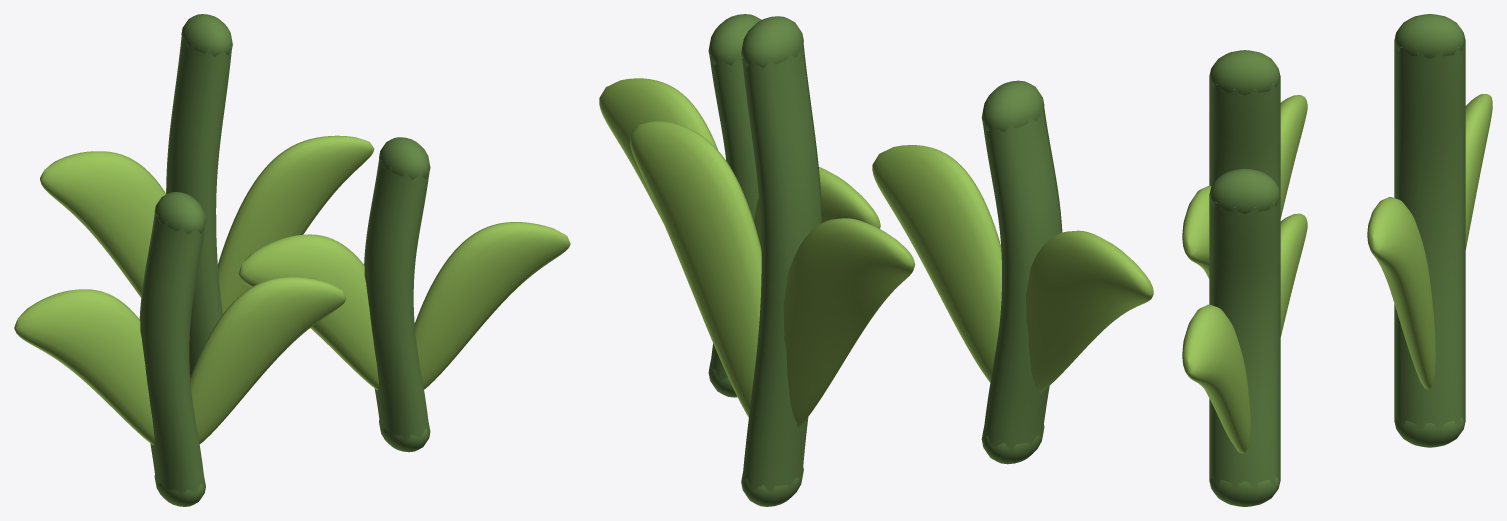
File: crop_1_stage_1.fbx
The picture shows the model from 3 angles, left to right: view 1: azimuth 30°, elevation 25°; view 2: azimuth 150°, elevation 25°; view 3: azimuth 270°, elevation 25°; orthographic projection. The views are drawn at different scales.
Visible parts, largest first — view 1: crop_1_stage_1; view 2: crop_1_stage_1; view 3: crop_1_stage_1.
Part boxes in pixels (x1,y1,x2,y2): crop_1_stage_1: [14, 14, 570, 506]; crop_1_stage_1: [599, 14, 1153, 506]; crop_1_stage_1: [1182, 14, 1492, 506].
Bounding box in the file's own units: 0.24 × 0.18 × 0.118.
Materials: 1 (1 with a texture image).
